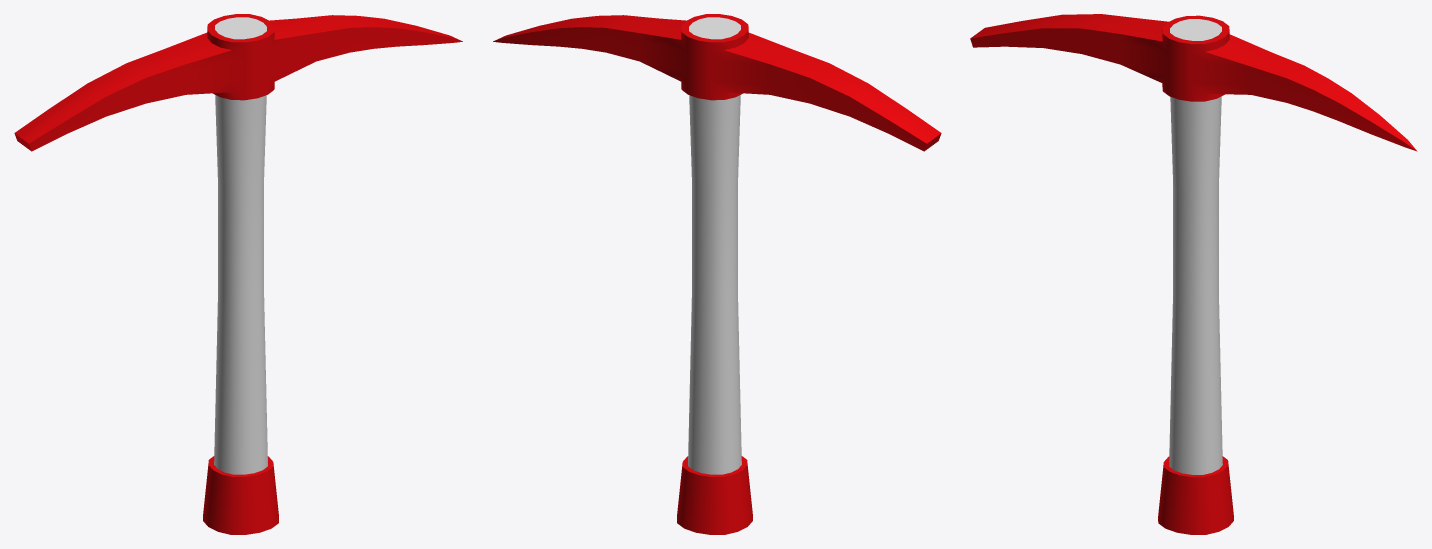
Rendered from EscapePlan.fbx.
3 renders of one model, left to right at view 1: azimuth 30°, elevation 25°; view 2: azimuth 150°, elevation 25°; view 3: azimuth 330°, elevation 25°, orthographic.
Visible parts, largest first — view 1: Plane; view 2: Plane; view 3: Plane.
Boxes of the visible parts, x1,y1,x2,y2 form: Plane: (14, 14, 462, 534); Plane: (493, 14, 941, 534); Plane: (970, 14, 1417, 534).
Size of the model in its own units: 1235 by 1310 by 183.
